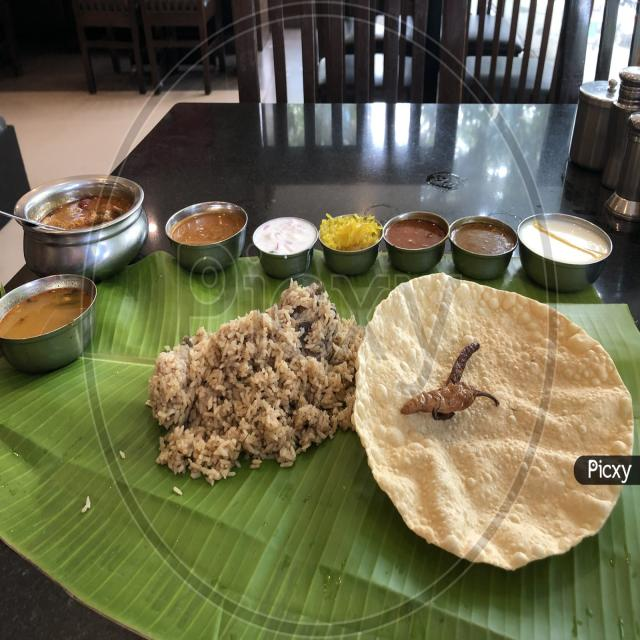non veg meals: (1, 160, 640, 581)
